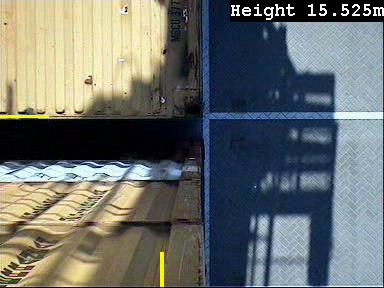groundmarker_2: (193, 228, 227, 267), (177, 50, 220, 77)
